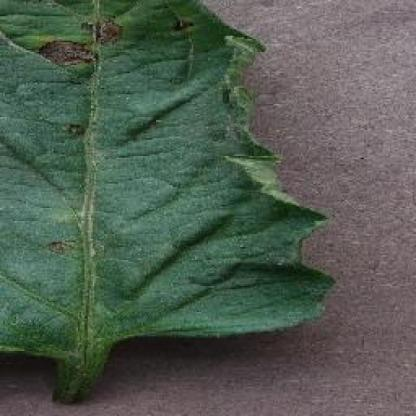Tomato_Blight: (0, 0, 333, 372)
